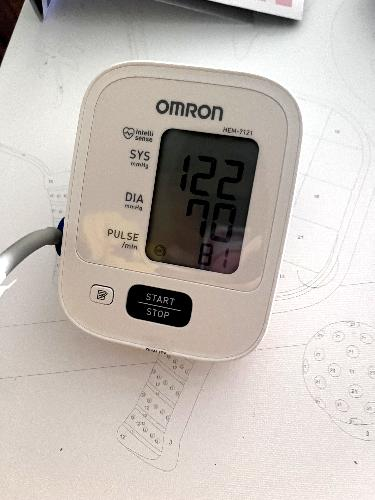bpm: (139, 122, 265, 280)
